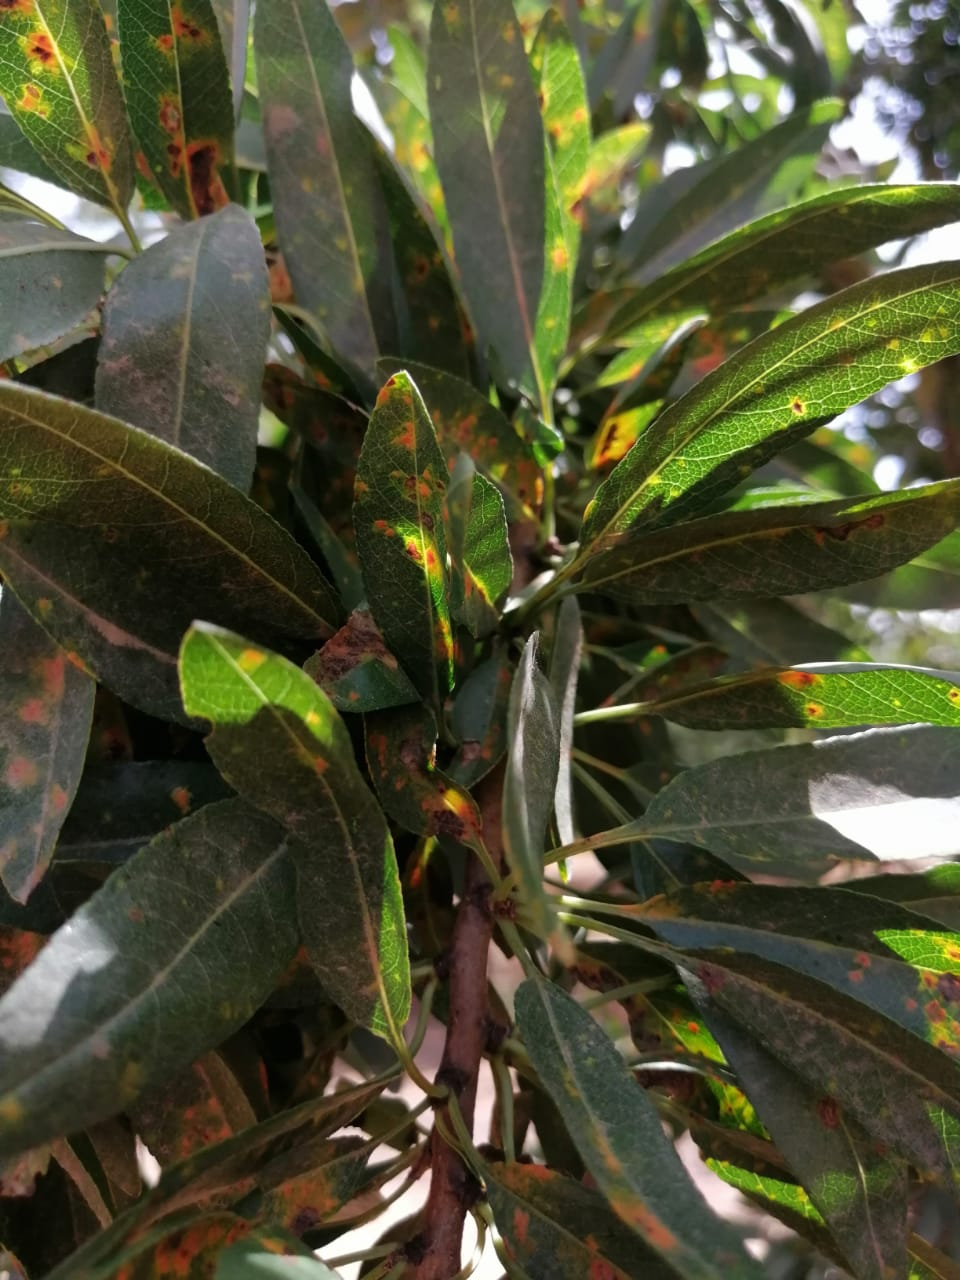polystigma: (355, 114, 483, 457), (633, 830, 941, 964), (18, 887, 124, 1254), (518, 1022, 729, 1184), (157, 127, 288, 357), (203, 613, 294, 863), (436, 500, 532, 703), (606, 373, 821, 450), (92, 253, 198, 408), (442, 456, 575, 569), (609, 381, 817, 454), (586, 642, 792, 714), (275, 163, 340, 357)
